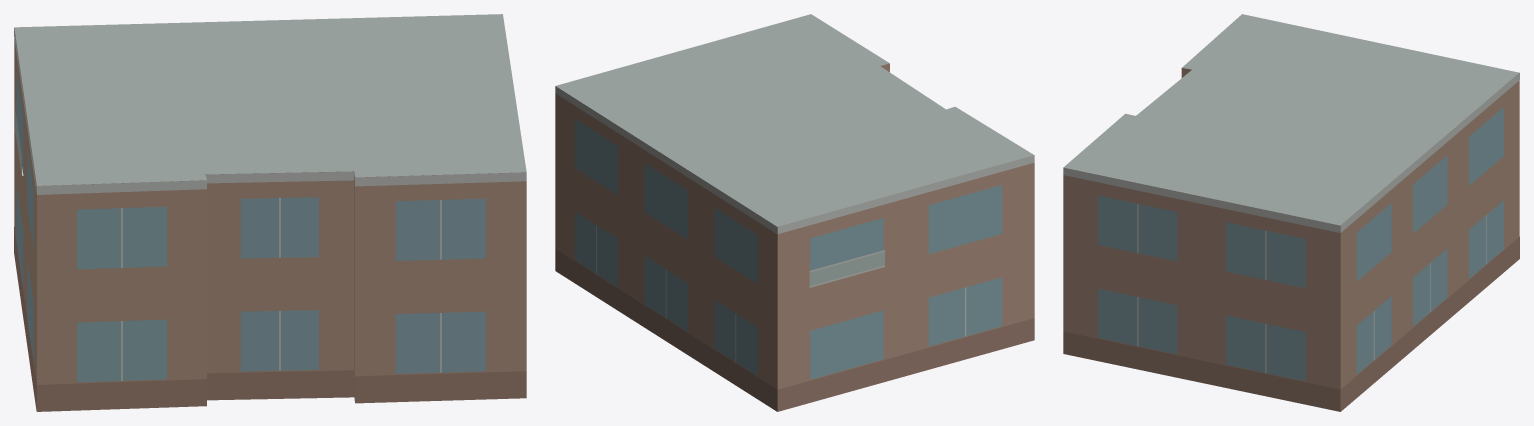
File: survey-upis-32963293.glb
3 views of the same model, side by side, from view 1: azimuth 30°, elevation 25°; view 2: azimuth 150°, elevation 25°; view 3: azimuth 270°, elevation 25° (orthographic). The views are drawn at different scales.
Visible parts, largest first — view 1: survey-upis-32963293.tmp; view 2: survey-upis-32963293.tmp; view 3: survey-upis-32963293.tmp.
Part boxes in pixels (x1,y1,x2,y2): survey-upis-32963293.tmp: (14,14,526,411); survey-upis-32963293.tmp: (555,14,1034,411); survey-upis-32963293.tmp: (1063,14,1519,411).
Size of the model in its own units: 14.87 by 6.1 by 13.56.
